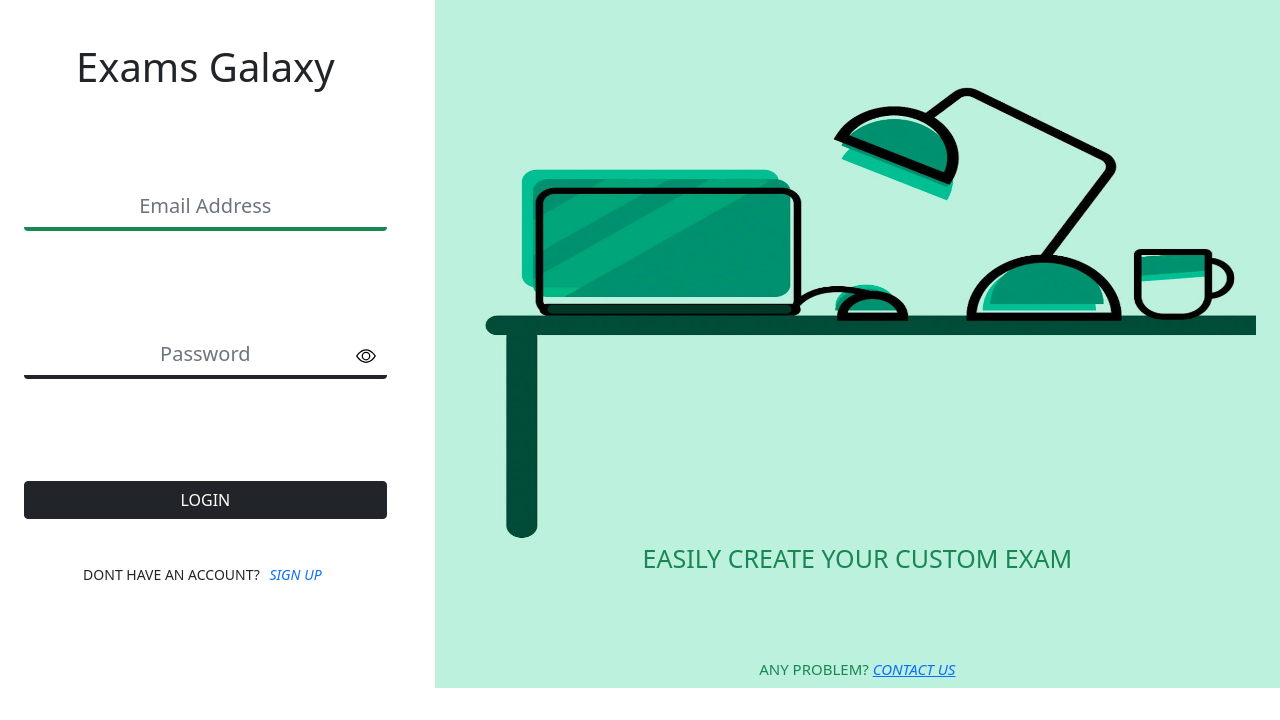
Test: user can login with login component
The width and height of the screenshot is (1280, 720).
Type "fkub@example.org" into the field labelled "Email Address" at (205, 208), box [24,185,387,231]
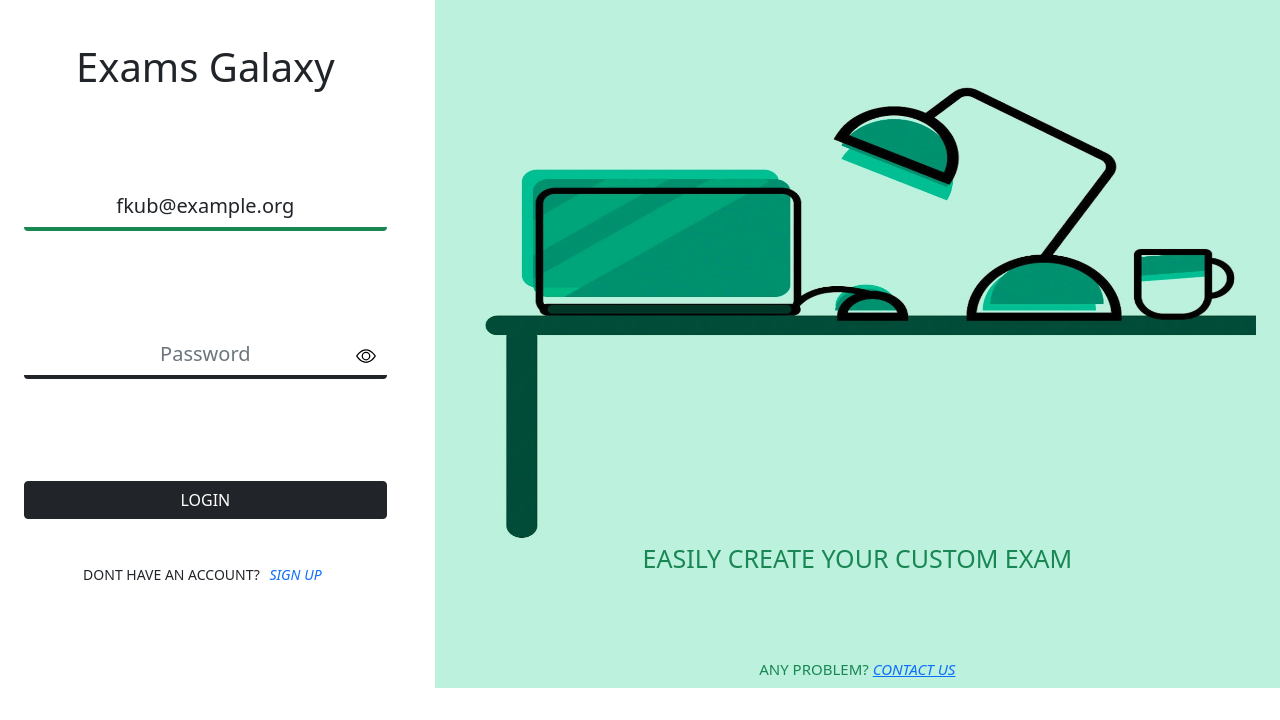
Type "1stStrongestPassword" into the password field labelled "Password" at (205, 356), box [24,333,387,379]
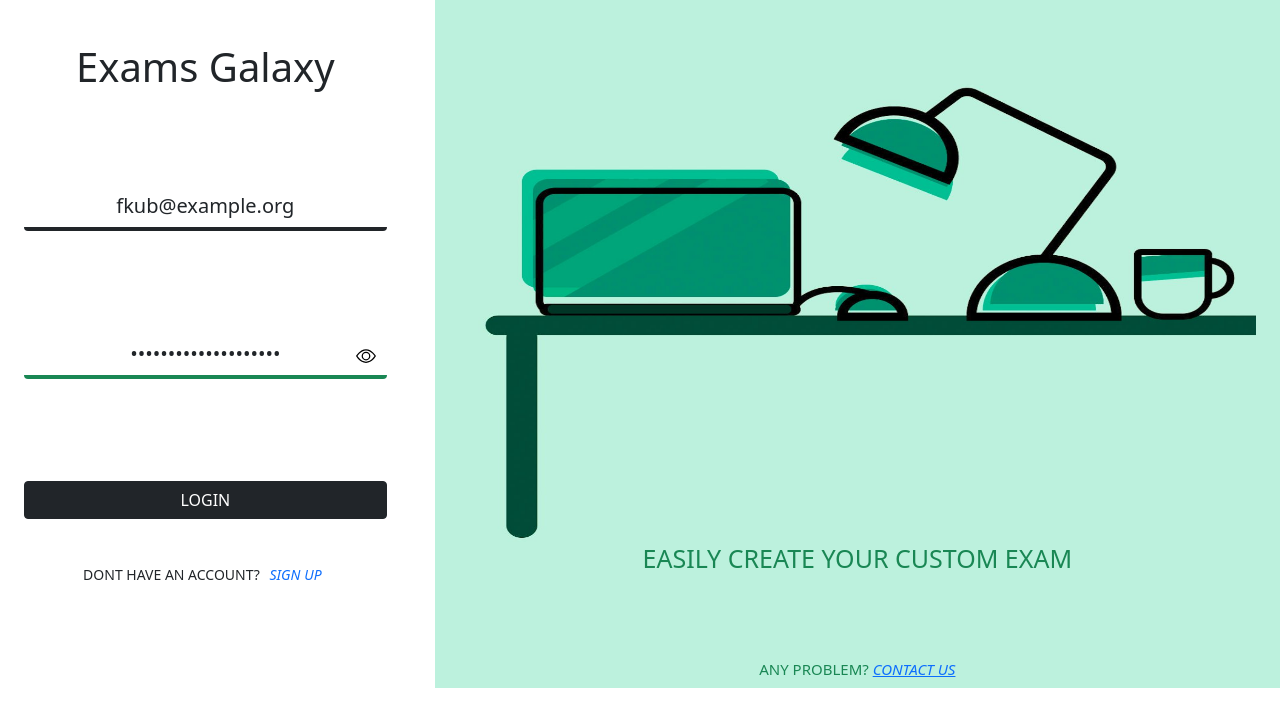
Click the button "LOGIN" at (205, 500), box [24,481,387,519]
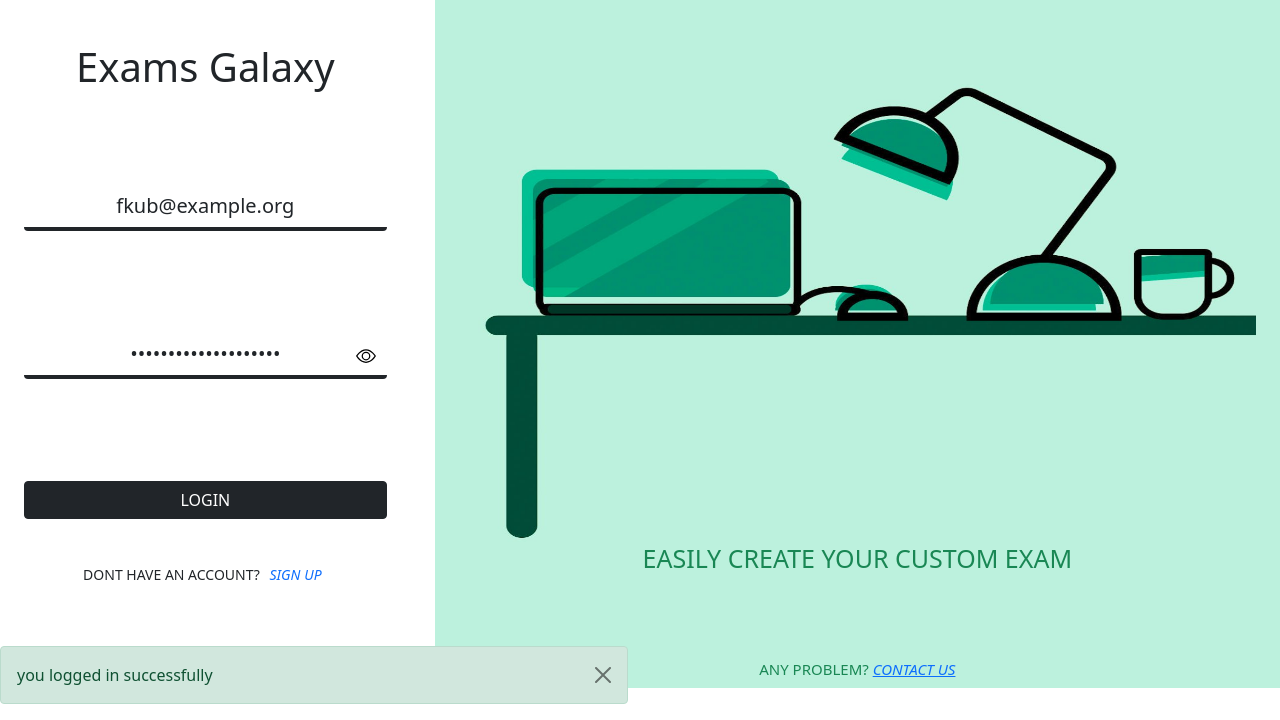
Expected: the message "you logged in successfully" is shown, [0,646,628,704]
